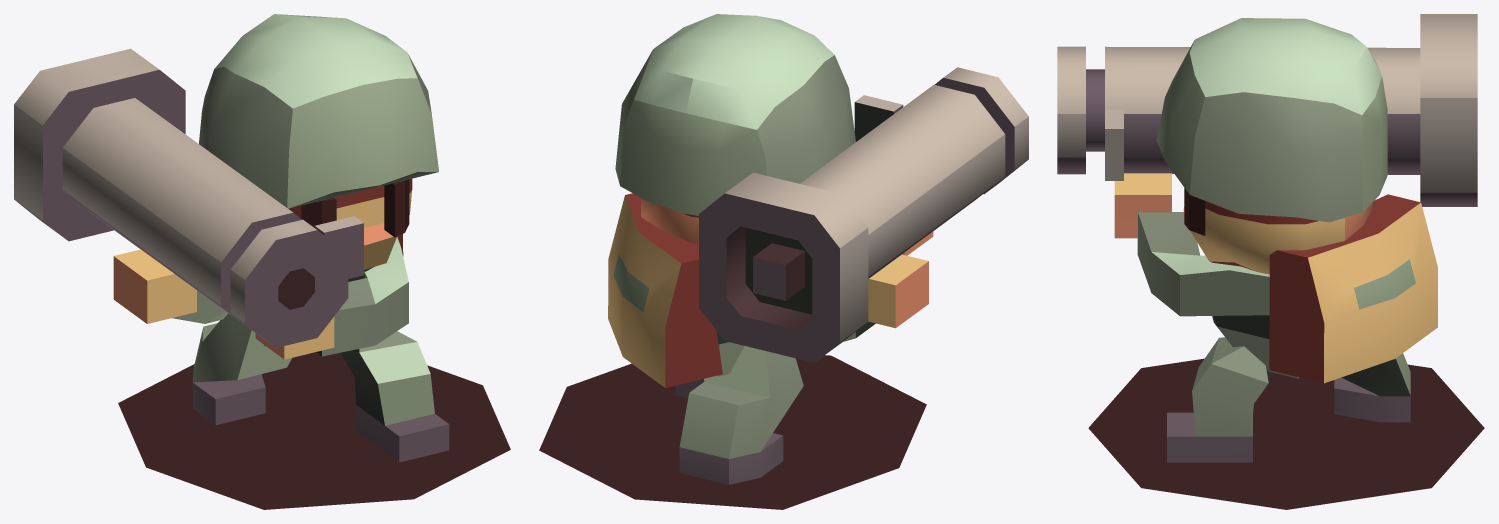
Rendered from MechMesh.JadeSun.glb.
3 views of the same model, side by side, from view 1: azimuth 30°, elevation 25°; view 2: azimuth 150°, elevation 25°; view 3: azimuth 270°, elevation 25° (orthographic).
Parts seen in each view (by area): view 1: MechMesh.JadeSun; view 2: MechMesh.JadeSun; view 3: MechMesh.JadeSun.
Part boxes in pixels (x1,y1,x2,y2): MechMesh.JadeSun: (14, 14, 510, 509); MechMesh.JadeSun: (539, 14, 1028, 509); MechMesh.JadeSun: (1057, 14, 1484, 509).
Bounding box in the file's own units: 2.24 × 2.3 × 2.24.
1 material, 1 textured.
